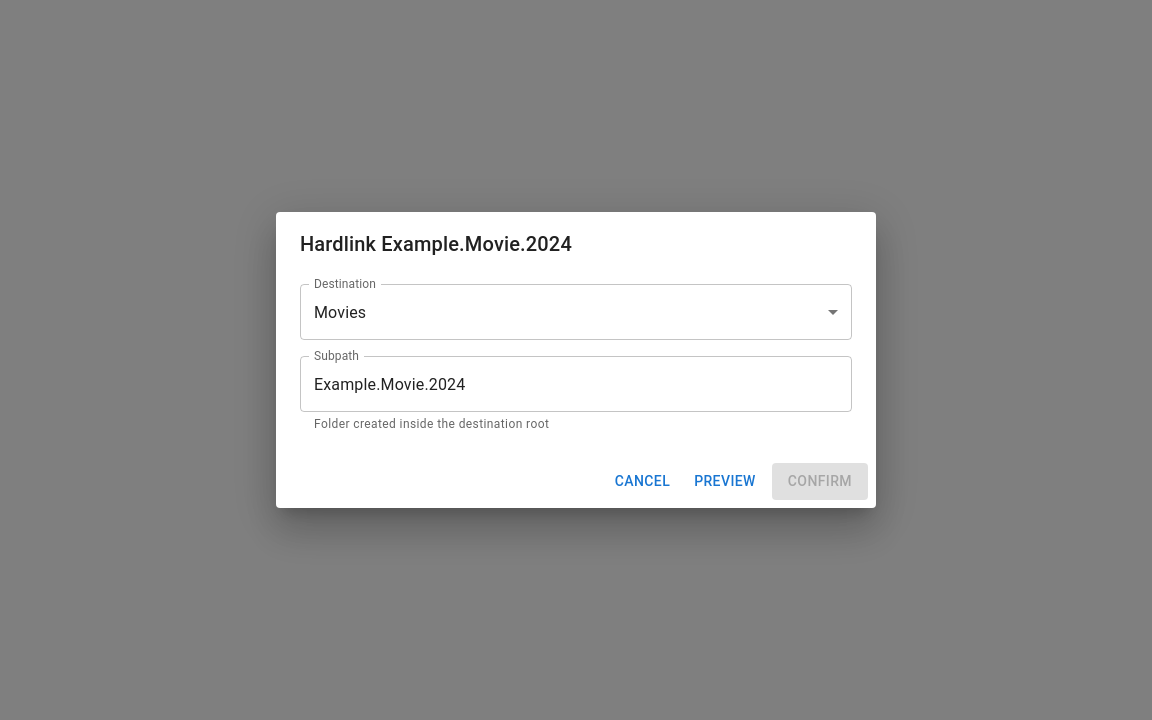
unlinkable root shows reason and disables preview
Click the dropdown named "destination" at x=340, y=312, box [314,303,366,322]
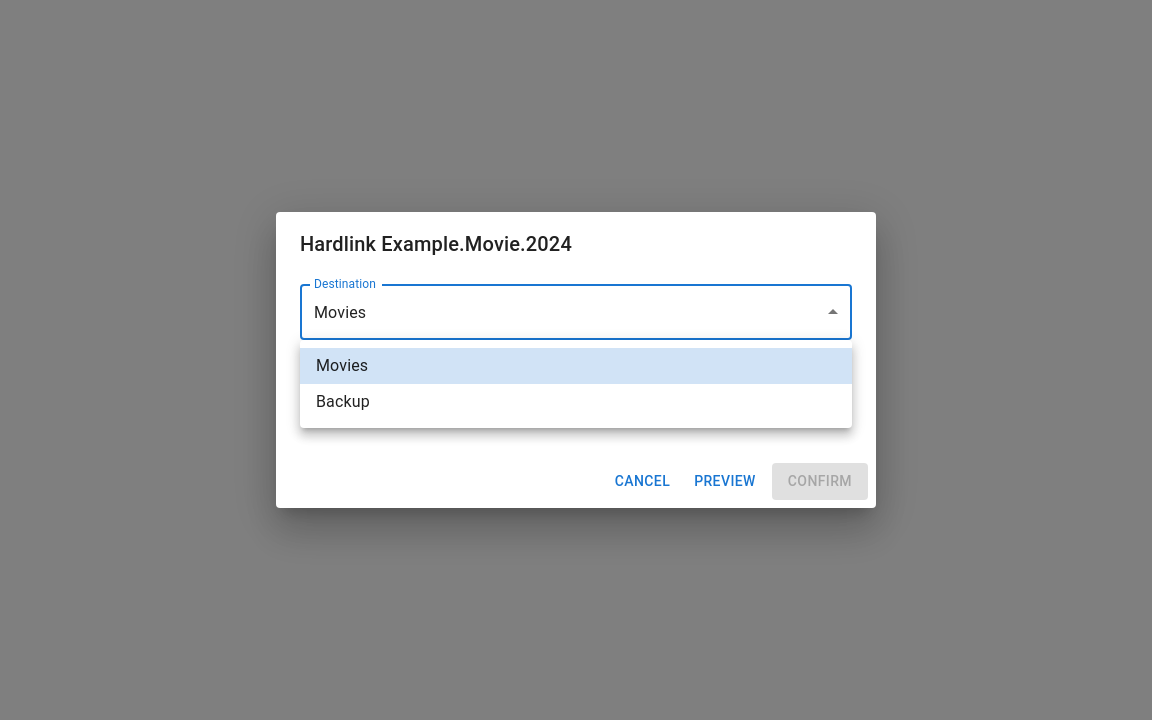
Click the option "Backup" at x=343, y=402, box [316,392,370,411]
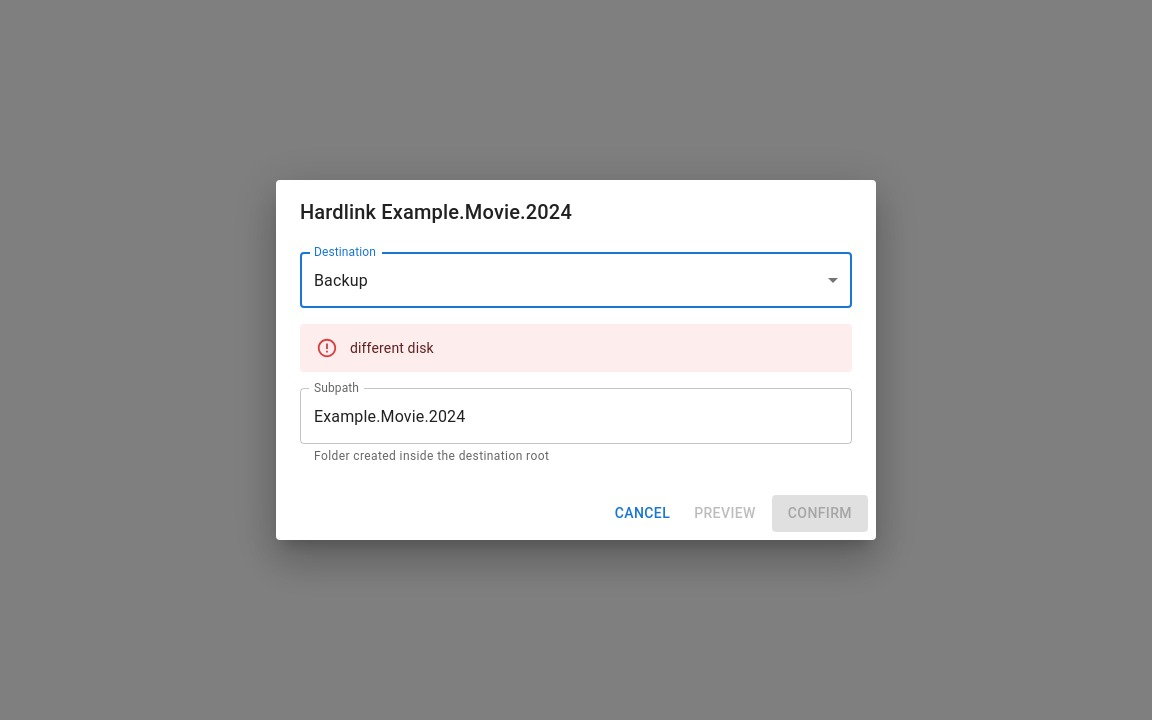
Expected: the text "different disk" is shown, [350,340,434,356]
Expected: the button "Preview" is disabled, [686,495,764,532]
